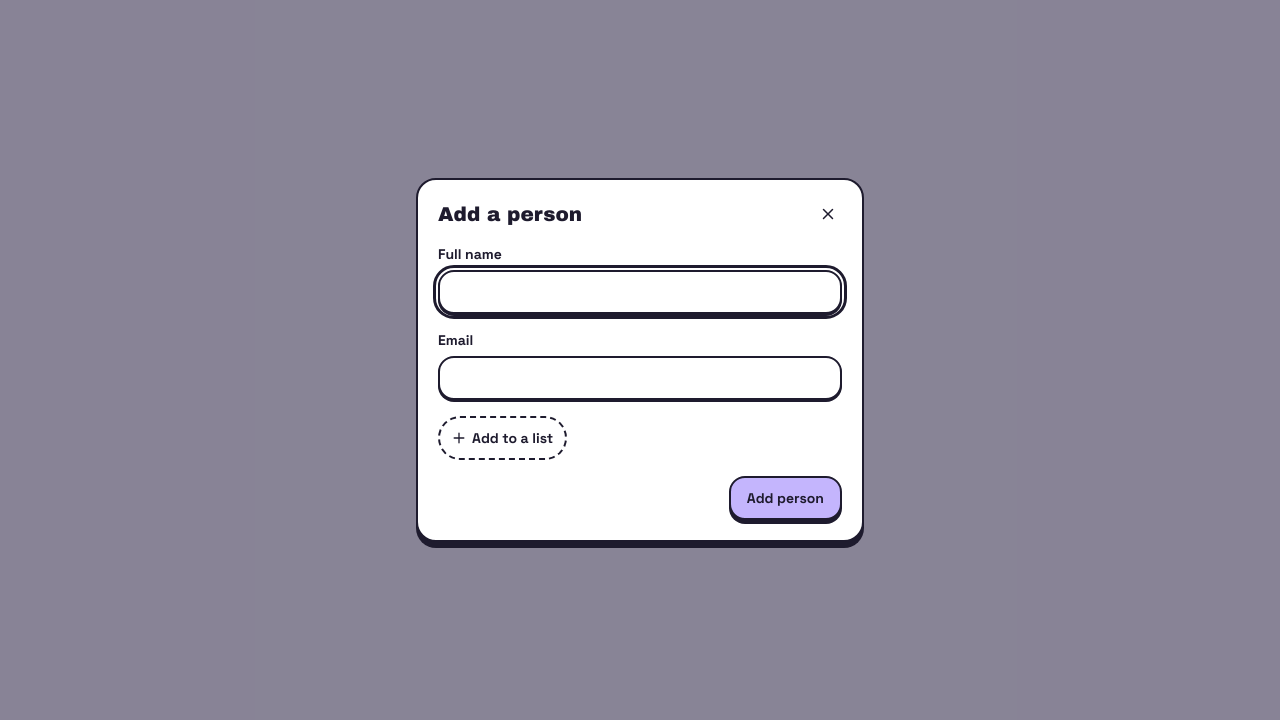
AddContactDialog › says when the email was already in the roster
Type "Amira" into the field labelled "Full name".
click(640, 292); type("Amira")  # box [438,270,842,314]
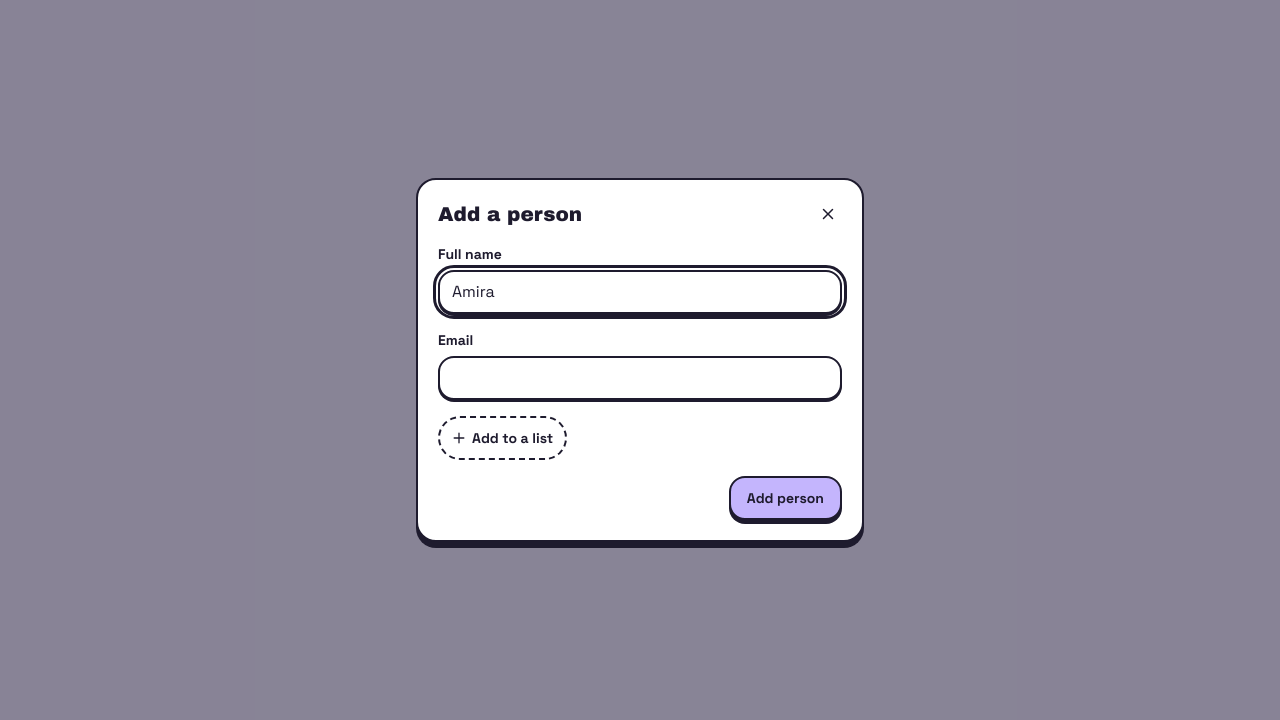
Type "amira@example.com" into the field labelled "Email".
click(640, 378); type("amira@example.com")  # box [438,356,842,400]
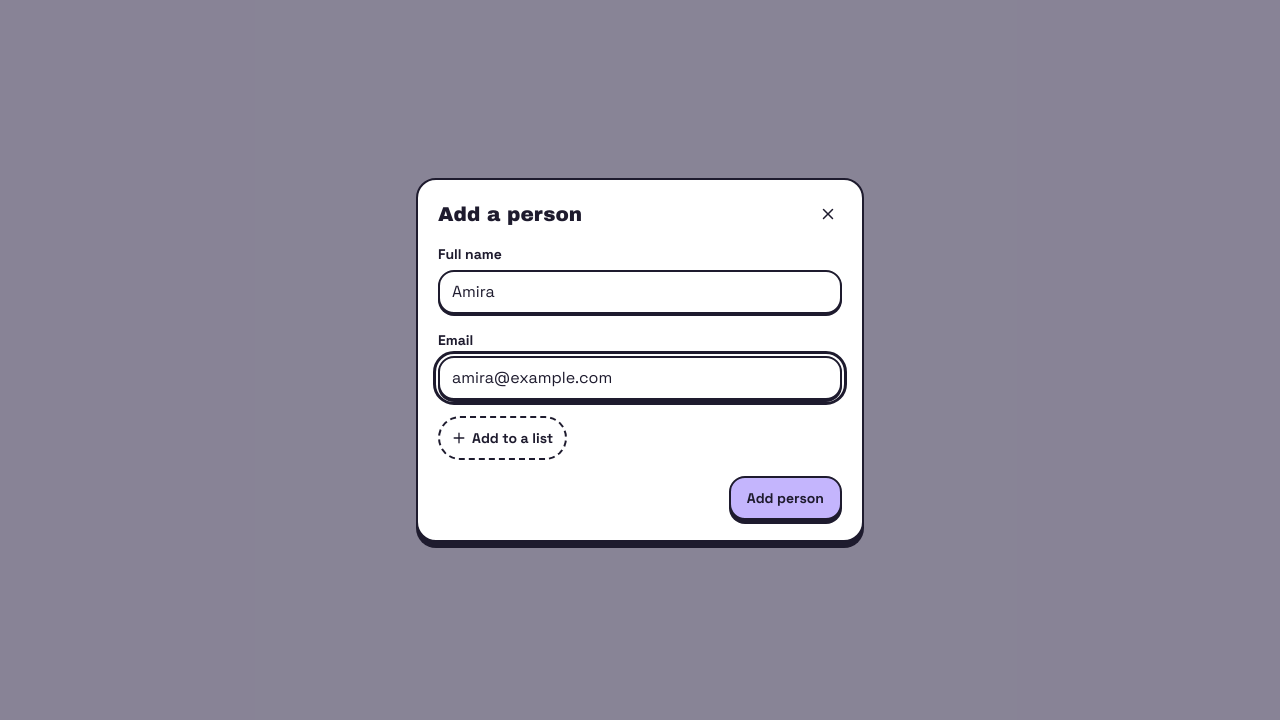
Click the button "Add person".
click(785, 498)  # box [729,476,842,520]
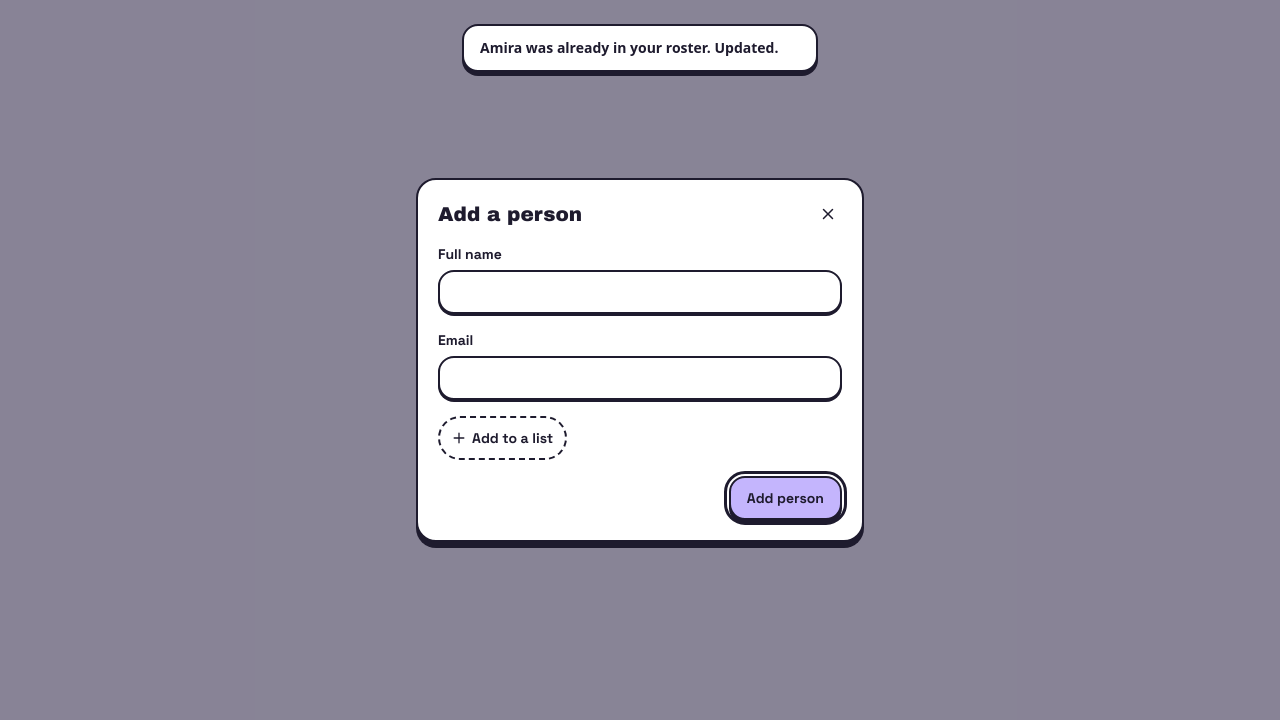
Check: the text "Amira was already in your roster. Updated." is shown, box [480,38,778,58]
